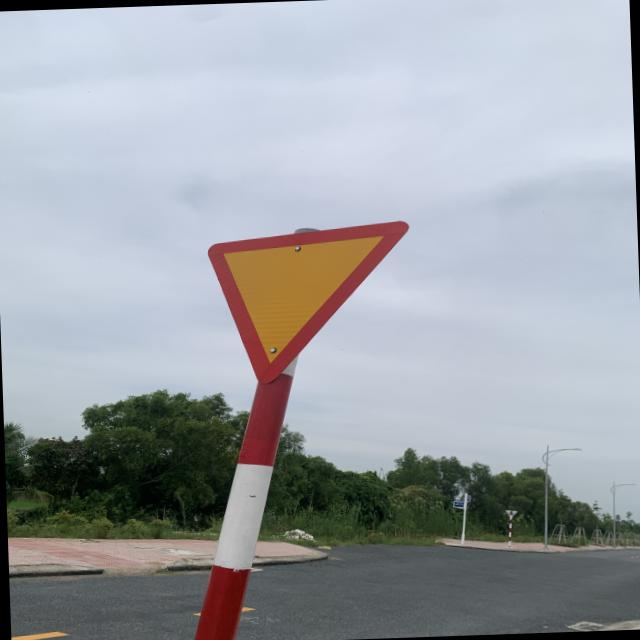Gioi_Han_Toc_Do_25: (205, 219, 415, 388)
